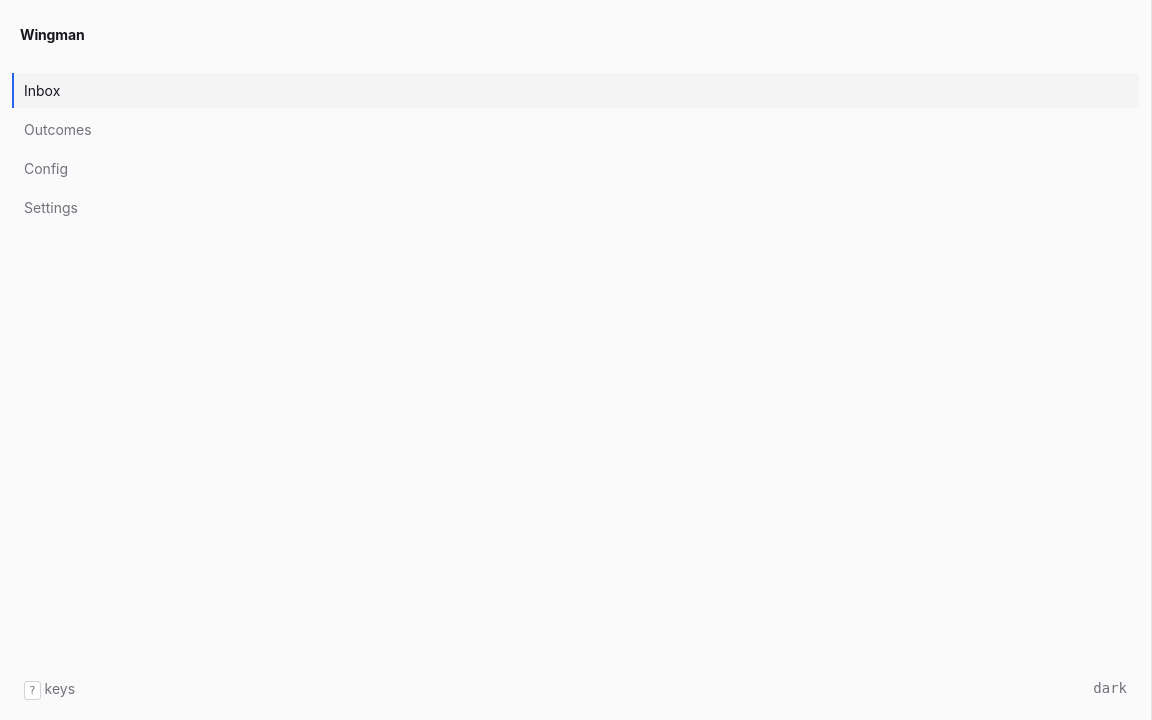
Test: Rail › shows four product destinations and the shortcut sheet
Expected: the number of links is 4, [12, 73, 1139, 108]; [24, 121, 92, 138]; [24, 160, 68, 177]; [24, 199, 78, 216]
What coordinates should you click on to do the following:
click the button "? keys"
I would click on:
 (50, 689)
Its box is [20, 674, 79, 704].
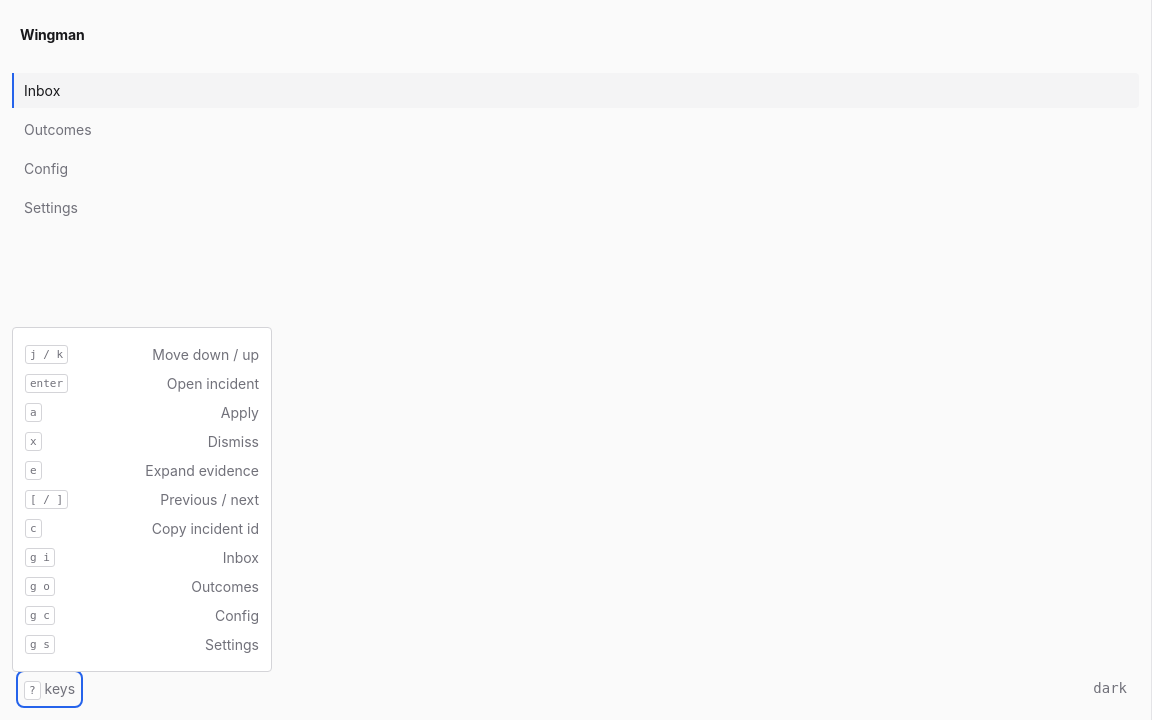
Expected: the element named "Keyboard shortcuts" is shown, [12, 327, 272, 672]
